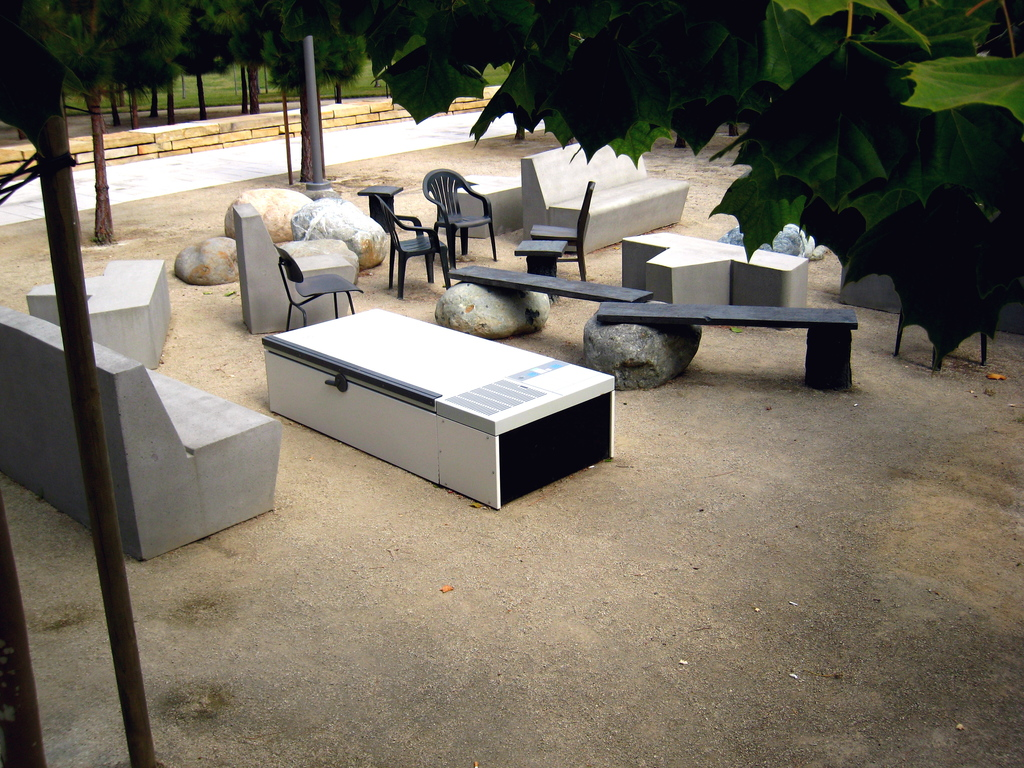Couch: (0, 296, 272, 566), (524, 142, 691, 253)
